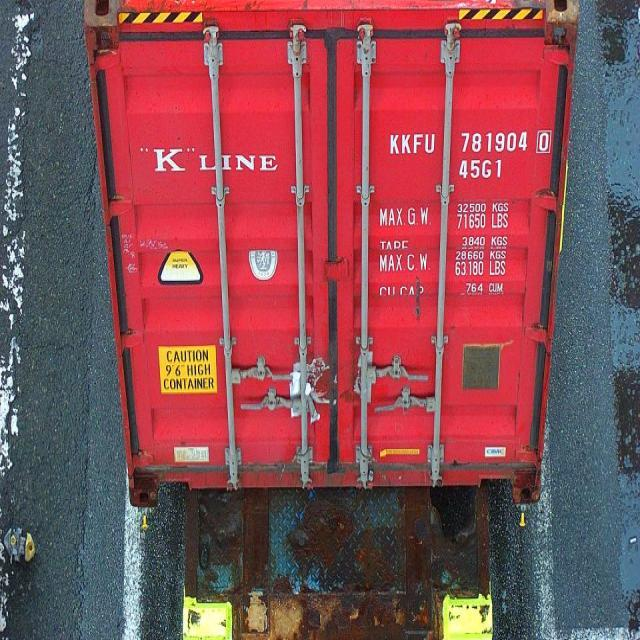ISO: (458, 160, 504, 180)
container_number: (393, 130, 552, 154)
